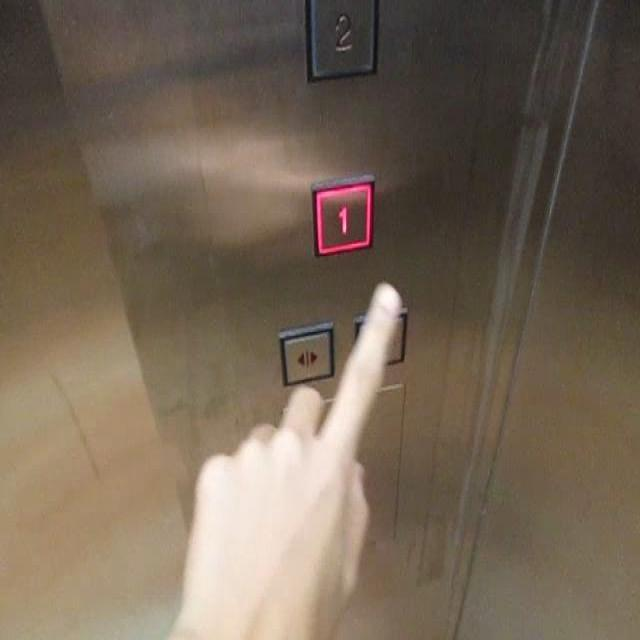1: (309, 173, 375, 260)
2: (301, 0, 380, 83)
open: (274, 319, 339, 392)
